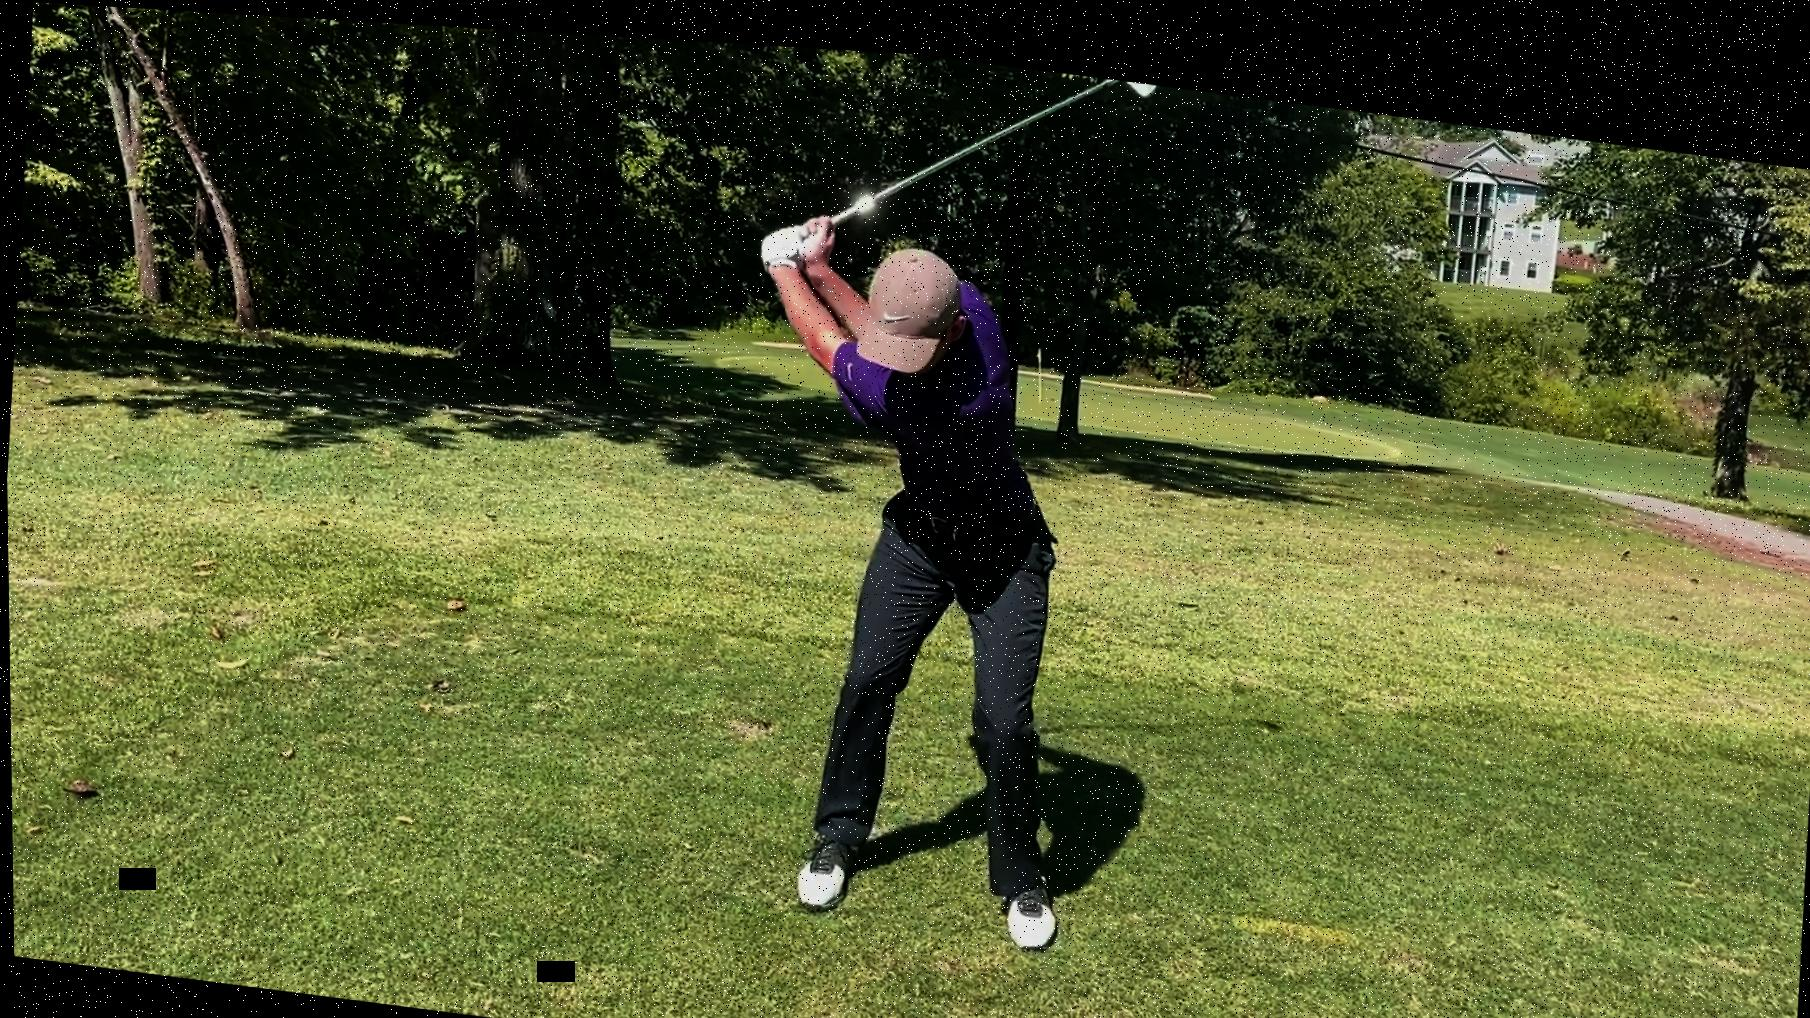ClubHead: (1103, 63, 1160, 89)
